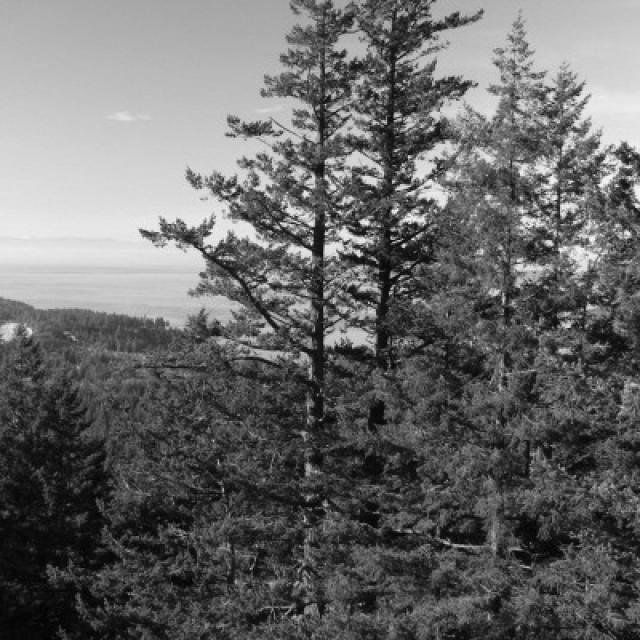Pseudotsuga menziesii: (202, 0, 378, 623), (417, 24, 592, 609)
